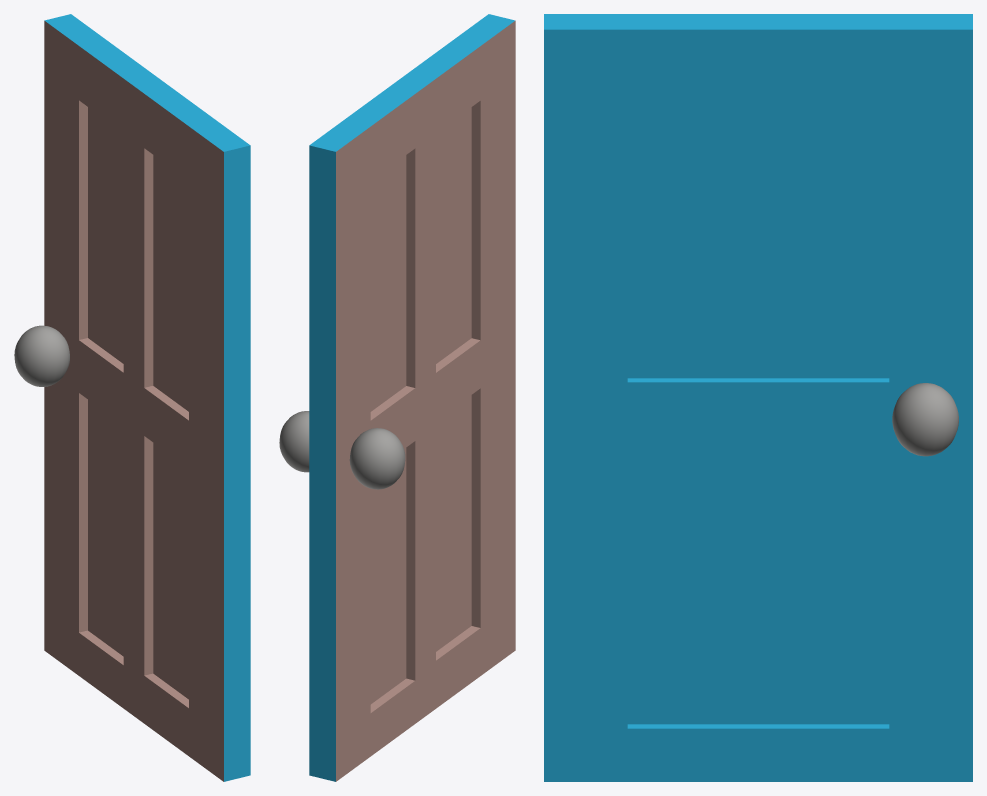
File: puerta.OBJ
The picture shows the model from 3 angles, left to right: view 1: azimuth 30°, elevation 25°; view 2: azimuth 150°, elevation 25°; view 3: azimuth 270°, elevation 25°; orthographic projection. The views are drawn at different scales.
Visible parts, largest first — view 1: polySurface350; view 2: polySurface350; view 3: polySurface350.
Part boxes in pixels (x1,y1,x2,y2): polySurface350: [14, 14, 250, 781]; polySurface350: [279, 14, 515, 781]; polySurface350: [544, 14, 972, 781].
Bounding box in the file's own units: 1.47 × 7.46 × 3.85.
4 materials, 4 textured.
